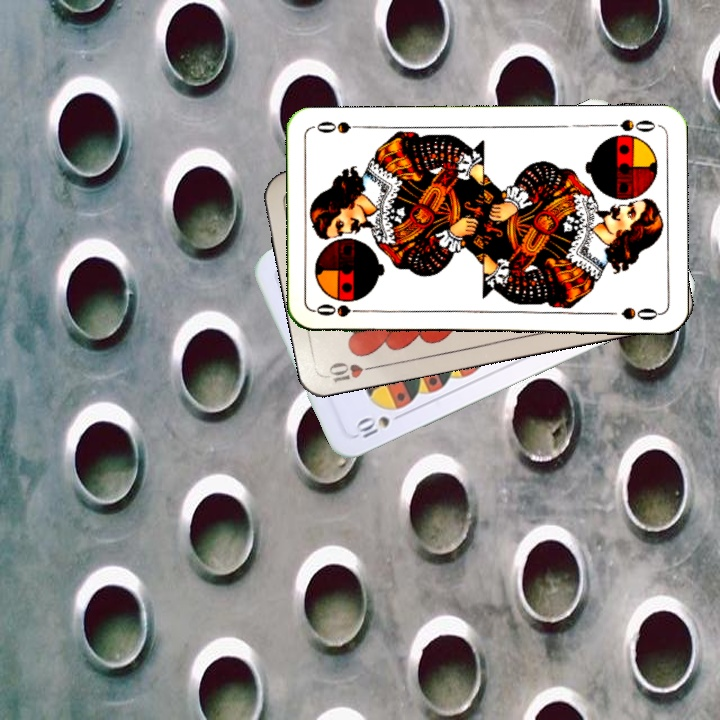H10: (323, 358, 383, 386)
S10: (351, 408, 408, 441)
SO: (312, 300, 371, 320), (601, 115, 660, 134)
